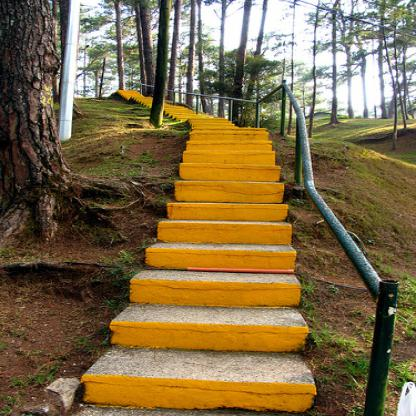stairs: (162, 224, 294, 414)
